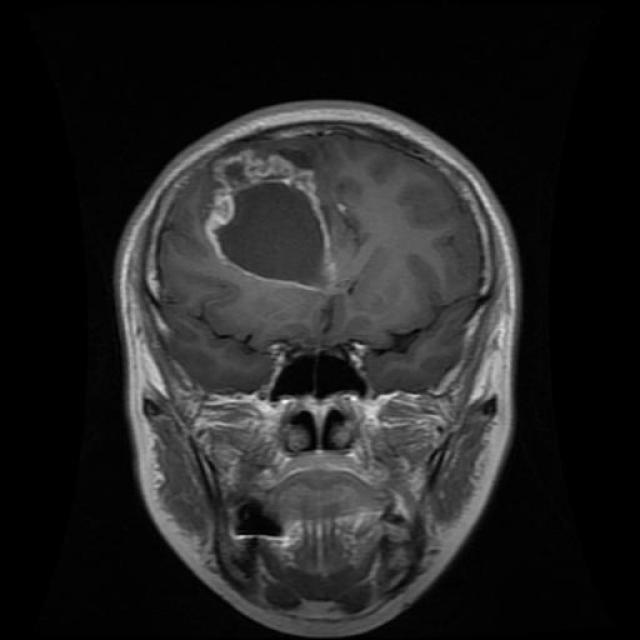Brain-Tumor: (199, 133, 378, 316)
